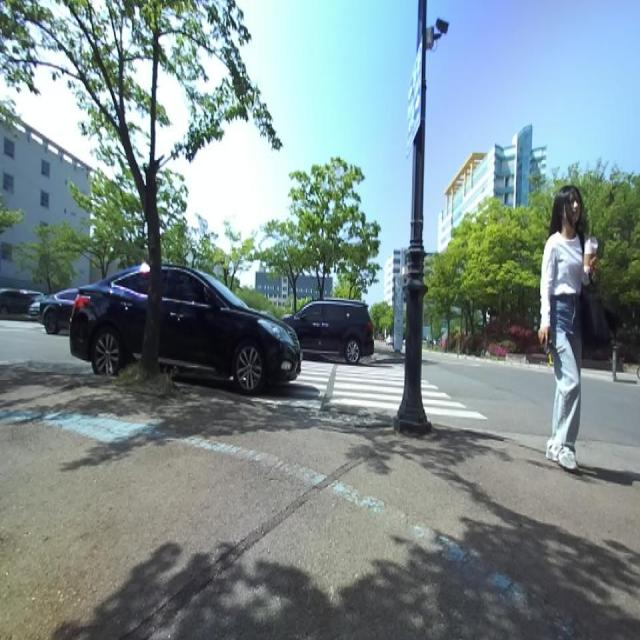sidewalk: (0, 370, 640, 640)
